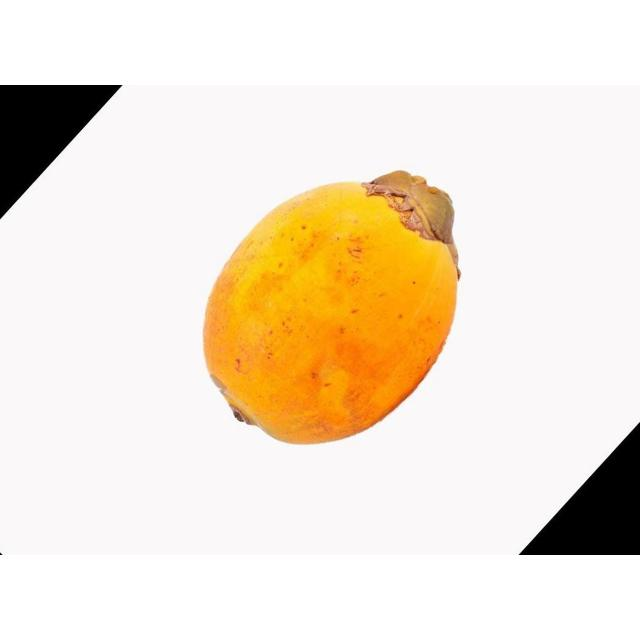good: (201, 172, 461, 447)
